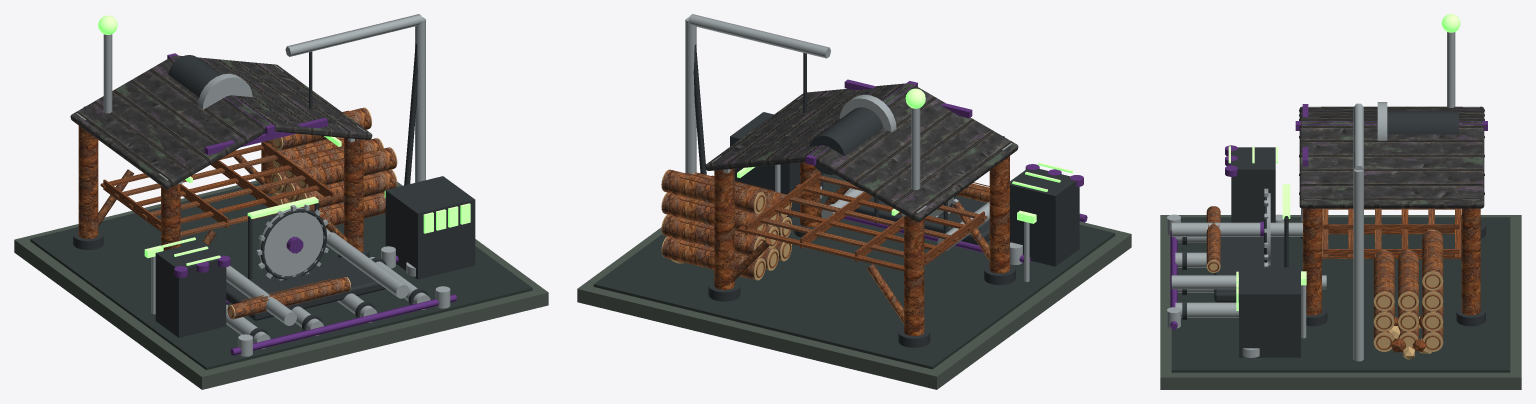
File: timberline_v4_l05.glb
3 views of the same model, side by side, from view 1: azimuth 30°, elevation 25°; view 2: azimuth 150°, elevation 25°; view 3: azimuth 270°, elevation 25° (orthographic). The views are drawn at different scales.
Parts seen in each view (by area): view 1: timberline_v4_l05, stone_yard_base, hydraulic_sorter, auto_feed_motor, saw_carriage, circular_saw_blade, saw_rotor, conveyor_roller_0, saw_safety_light; view 2: timberline_v4_l05, stone_yard_base, auto_feed_motor, hydraulic_sorter, saw_carriage; view 3: timberline_v4_l05, stone_yard_base, hydraulic_sorter, auto_feed_motor, saw_carriage, conveyor_roller_30, conveyor_roller_10, saw_rotor.
Boxes of the visible parts, bbox=[...] form: timberline_v4_l05: bbox=[30, 14, 532, 369]; stone_yard_base: bbox=[14, 180, 548, 389]; hydraulic_sorter: bbox=[385, 176, 475, 279]; auto_feed_motor: bbox=[155, 241, 226, 337]; saw_carriage: bbox=[226, 257, 385, 320]; circular_saw_blade: bbox=[259, 207, 323, 275]; saw_rotor: bbox=[256, 204, 330, 280]; conveyor_roller_0: bbox=[226, 305, 270, 348]; saw_safety_light: bbox=[247, 196, 318, 218]; timberline_v4_l05: bbox=[593, 14, 1115, 369]; stone_yard_base: bbox=[577, 221, 1131, 389]; auto_feed_motor: bbox=[1010, 168, 1079, 266]; hydraulic_sorter: bbox=[730, 112, 823, 218]; saw_carriage: bbox=[853, 195, 989, 245]; timberline_v4_l05: bbox=[1167, 32, 1510, 372]; stone_yard_base: bbox=[1160, 215, 1521, 389]; hydraulic_sorter: bbox=[1239, 267, 1300, 357]; auto_feed_motor: bbox=[1231, 147, 1275, 222]; saw_carriage: bbox=[1214, 237, 1283, 302]; conveyor_roller_30: bbox=[1175, 302, 1238, 317]; conveyor_roller_10: bbox=[1175, 252, 1206, 267]; saw_rotor: bbox=[1260, 188, 1268, 267].
Size of the model in its own units: 6.5 by 4.46 by 6.1.
Materials: 11 (3 with a texture image).
